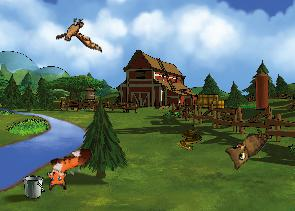eagle: (55, 17, 102, 53)
fox: (39, 145, 99, 194)
owl: (219, 119, 270, 173)
